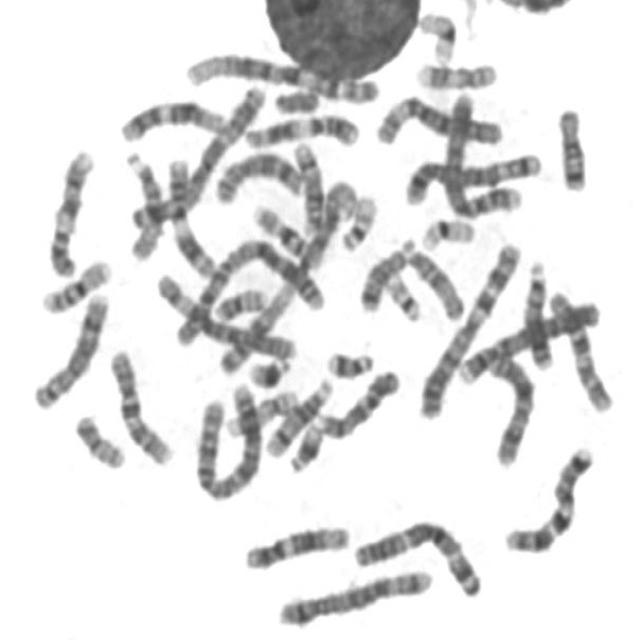A1: (222, 164, 362, 355), (180, 44, 387, 106)
A2: (166, 230, 328, 353), (190, 375, 267, 504)
A3: (124, 76, 272, 236), (348, 512, 488, 600)
B4: (449, 288, 606, 386), (438, 84, 528, 220)
B5: (274, 559, 438, 629), (398, 143, 546, 207)
C10: (542, 281, 618, 415), (104, 339, 178, 468)
C11: (162, 148, 221, 280), (238, 106, 364, 150)
C12: (239, 515, 355, 572), (114, 90, 231, 144)
C6: (152, 263, 302, 362), (370, 86, 510, 149)
C7: (417, 240, 531, 422), (499, 436, 600, 556)
C8: (28, 284, 114, 412), (209, 141, 308, 206)
C9: (44, 139, 100, 279), (311, 369, 404, 438)
D13: (520, 251, 558, 371), (320, 344, 387, 384)
D14: (261, 371, 337, 461), (288, 134, 329, 236)
D15: (396, 230, 469, 324), (121, 143, 168, 262)
E16: (247, 194, 323, 267), (36, 250, 117, 315)
E17: (220, 381, 302, 440), (411, 52, 502, 91)
E18: (356, 238, 415, 312), (552, 97, 593, 194)
F19: (413, 2, 461, 64), (416, 207, 481, 252)
F20: (70, 405, 130, 470), (209, 278, 271, 324)
G21: (284, 413, 327, 475), (242, 348, 296, 389)
G22: (335, 186, 382, 253), (379, 263, 427, 324)
X: (482, 343, 539, 469)
Y: (269, 79, 324, 115)
